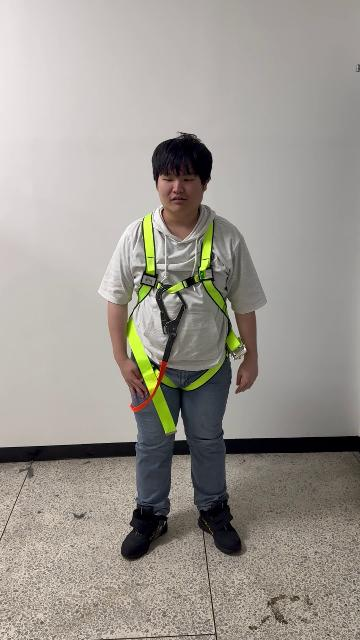helmet_not_worn: (154, 138, 214, 202)
shoe_worn: (121, 505, 169, 558), (198, 502, 241, 554)
vest_worn: (123, 217, 243, 427)
